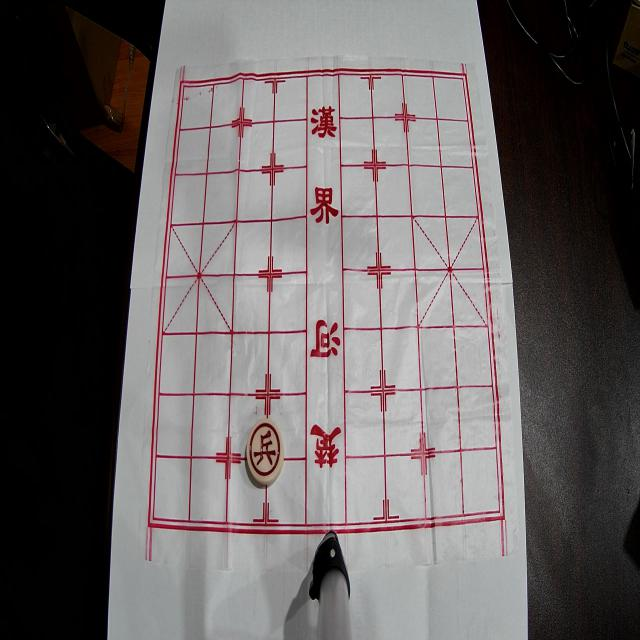red-soldier: (247, 418, 284, 484)
